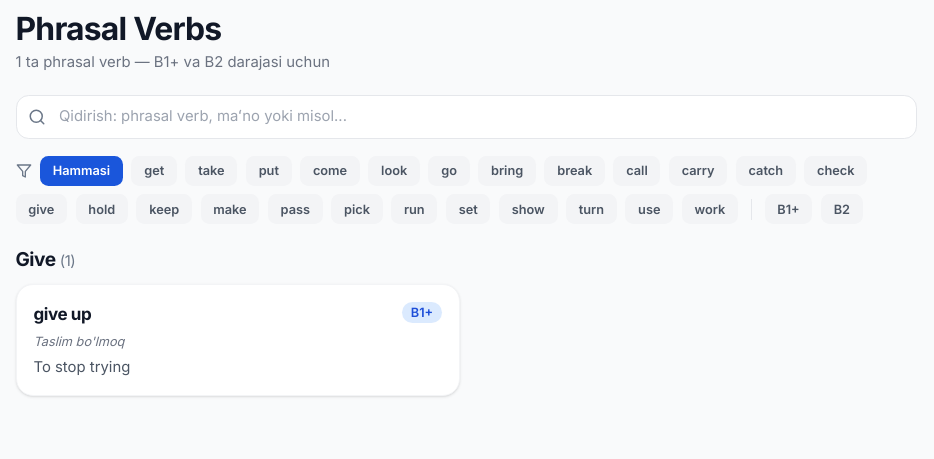
Scenario: PhrasalVerbs › filters by level
Note: Click B2 — 'give up' is B1+, so it should disappear
Click the button "B2" at (842, 209), box [821,194,863,224]
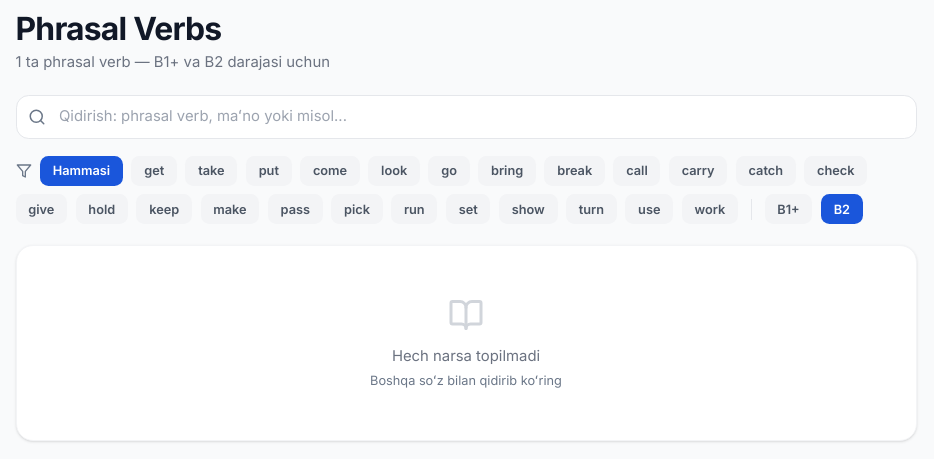
Check: the button "give up" is gone
